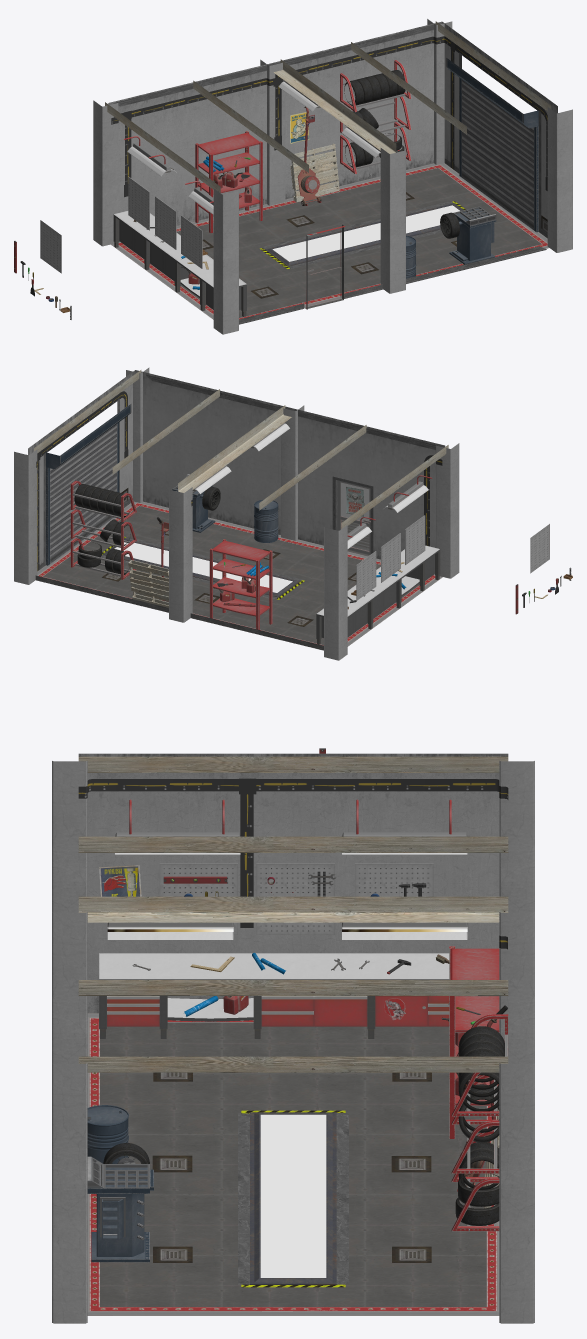
Rendered from garage.glb.
The picture shows the model from 3 angles, top to bottom: view 1: azimuth 30°, elevation 25°; view 2: azimuth 150°, elevation 25°; view 3: azimuth 270°, elevation 25°; orthographic projection. The views are drawn at different scales.
Visible parts, largest first — view 1: prop_garage_wall, prop_garage_floor, prop_garage_roller_shutters, dec_garage_cable, prop_red_tool_table, dec_garage_damage_concrete, prop_garage_floor_002, prop_garage_pit_cover, prop_garage_tool_shelf_001, prop_garage_Balanced_Machine, prop_garage_wooden_beams, prop_garage_pillar_004 (+19 smaller); view 2: prop_garage_wall, prop_garage_floor, prop_garage_roller_shutters, prop_red_tool_table, dec_garage_damage_concrete, prop_garage_tool_shelf_001, prop_garage_pillar_004, prop_garage_floor_002, prop_garage_wooden_beams, prop_garage_pit_cover, prop_garage_fluorescent_lamp, dec_garage_cable (+18 smaller); view 3: prop_garage_wall, prop_garage_floor, prop_red_tool_table, prop_garage_pit_cover, prop_garage_wooden_beams, prop_garage_wooden_beams_002, prop_garage_floor_002, prop_garage_wooden_beams_004, prop_garage_wooden_beams_003, dec_garage_cable, prop_garage_wooden_beams_001, prop_garage_fluorescent_lamp (+13 smaller).
Boxes of the visible parts, box(x1,y1,x2,y2) form: prop_garage_wall: box(93, 19, 572, 334); prop_garage_floor: box(176, 168, 541, 317); prop_garage_roller_shutters: box(446, 58, 538, 232); dec_garage_cable: box(111, 36, 547, 197); prop_red_tool_table: box(113, 211, 246, 316); dec_garage_damage_concrete: box(113, 23, 547, 324); prop_garage_floor_002: box(111, 163, 548, 321); prop_garage_pit_cover: box(268, 204, 461, 264); prop_garage_tool_shelf_001: box(195, 131, 262, 233); prop_garage_Balanced_Machine: box(440, 206, 496, 264); prop_garage_wooden_beams: box(274, 59, 396, 153); prop_garage_pillar_004: box(260, 59, 285, 205); prop_garage_wall: box(14, 367, 459, 660); prop_garage_floor: box(43, 506, 419, 645); prop_garage_roller_shutters: box(46, 404, 131, 565); prop_red_tool_table: box(316, 545, 440, 644); dec_garage_damage_concrete: box(35, 374, 442, 650); prop_garage_tool_shelf_001: box(209, 539, 272, 629); prop_garage_pillar_004: box(169, 487, 192, 622); prop_garage_floor_002: box(37, 501, 442, 646); prop_garage_wooden_beams: box(178, 405, 291, 492); prop_garage_pit_cover: box(105, 539, 297, 595); prop_garage_fluorescent_lamp: box(192, 423, 432, 548); dec_garage_cable: box(36, 391, 442, 571); prop_garage_wall: box(52, 753, 534, 1323); prop_garage_floor: box(100, 1022, 486, 1306); prop_red_tool_table: box(99, 953, 449, 1038); prop_garage_pit_cover: box(254, 1113, 332, 1282); prop_garage_wooden_beams: box(78, 896, 508, 922); prop_garage_wooden_beams_002: box(78, 836, 508, 852); prop_garage_floor_002: box(87, 1013, 499, 1315); prop_garage_wooden_beams_004: box(78, 1056, 508, 1072); prop_garage_wooden_beams_003: box(78, 756, 508, 772); dec_garage_cable: box(78, 778, 508, 949); prop_garage_wooden_beams_001: box(78, 980, 508, 995); prop_garage_fluorescent_lamp: box(107, 799, 467, 939).
Size of the model in its own units: 14.93 by 4.19 by 6.75.
Materials: 17 (16 with a texture image).
